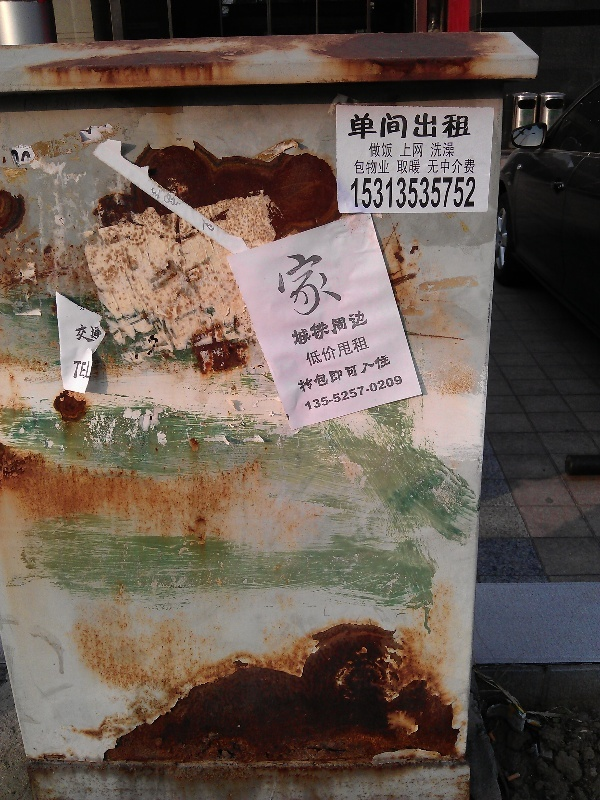text: (273, 244, 288, 323), (289, 244, 304, 323), (305, 244, 320, 323), (321, 244, 336, 323), (305, 351, 320, 396), (321, 351, 336, 396), (337, 351, 352, 396), (353, 351, 368, 396), (369, 351, 384, 396), (353, 307, 369, 349), (305, 307, 320, 349), (321, 307, 336, 349), (337, 307, 352, 349), (290, 307, 304, 349), (305, 374, 320, 413), (321, 374, 336, 413), (337, 374, 352, 413), (353, 374, 368, 413), (369, 374, 384, 413), (385, 374, 400, 413), (337, 244, 344, 323), (305, 334, 320, 369), (321, 334, 336, 369), (337, 334, 352, 369), (353, 334, 368, 369), (353, 177, 368, 209), (369, 177, 384, 209), (385, 177, 400, 209), (401, 177, 416, 209), (417, 177, 432, 209), (433, 177, 448, 209), (449, 177, 464, 209), (353, 113, 368, 140), (369, 113, 384, 140), (385, 113, 400, 140), (401, 113, 416, 140), (417, 113, 432, 140), (433, 113, 448, 140), (449, 113, 464, 140), (385, 351, 393, 396), (465, 177, 476, 209), (81, 321, 96, 343), (268, 244, 272, 323), (297, 351, 304, 396), (17, 150, 32, 167), (369, 142, 384, 158), (433, 142, 448, 158), (401, 160, 416, 175), (369, 160, 384, 175), (433, 159, 448, 174), (449, 159, 464, 174), (401, 143, 416, 157), (355, 160, 368, 175), (81, 361, 91, 379), (465, 159, 476, 174), (81, 125, 96, 136), (465, 113, 471, 140), (401, 374, 405, 413), (163, 193, 176, 205), (97, 321, 104, 343), (74, 321, 80, 343), (97, 125, 109, 136), (385, 142, 393, 158), (348, 113, 352, 140), (74, 361, 80, 379), (449, 142, 455, 158), (11, 150, 16, 167), (417, 143, 423, 157), (385, 160, 390, 175), (209, 220, 215, 232), (369, 334, 371, 369), (155, 187, 160, 201), (417, 160, 421, 175), (428, 159, 432, 174), (17, 145, 32, 149), (203, 220, 208, 232), (397, 160, 400, 175), (303, 374, 304, 413), (351, 177, 352, 209), (431, 142, 432, 158), (161, 187, 162, 201), (177, 193, 178, 205)
